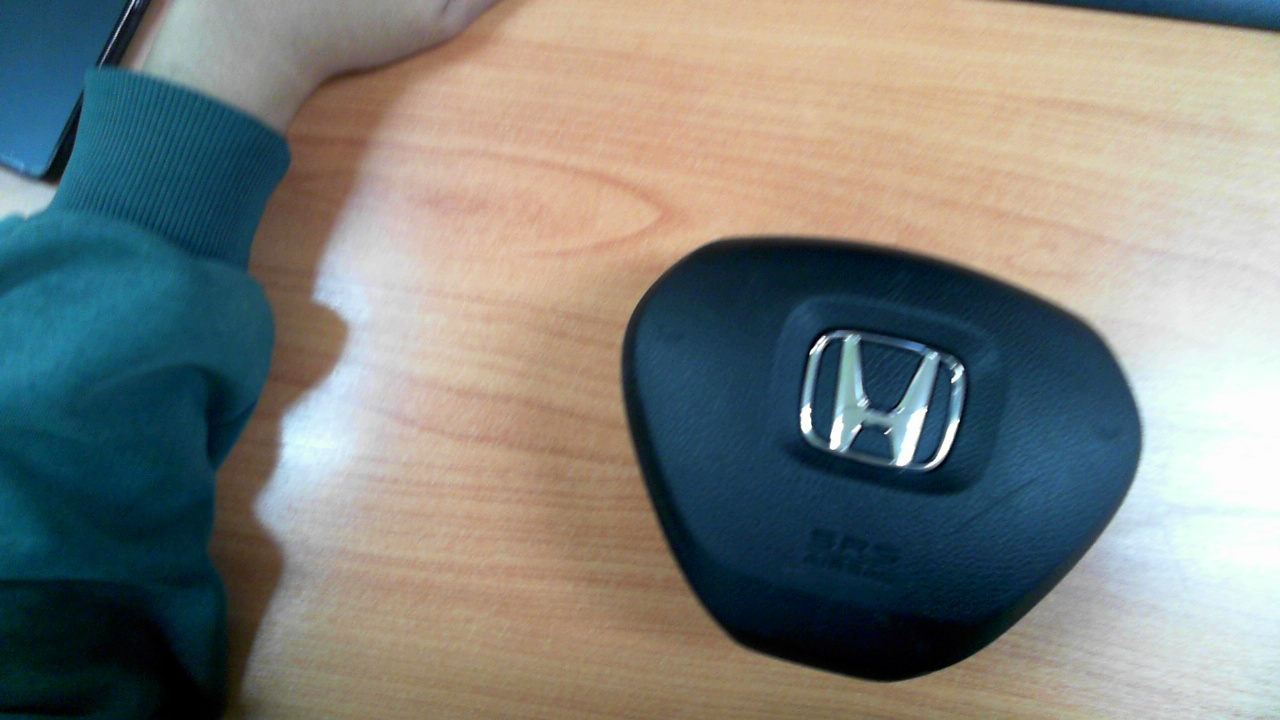Airbag: (621, 236, 1145, 684)
Honda: (798, 329, 982, 473)
